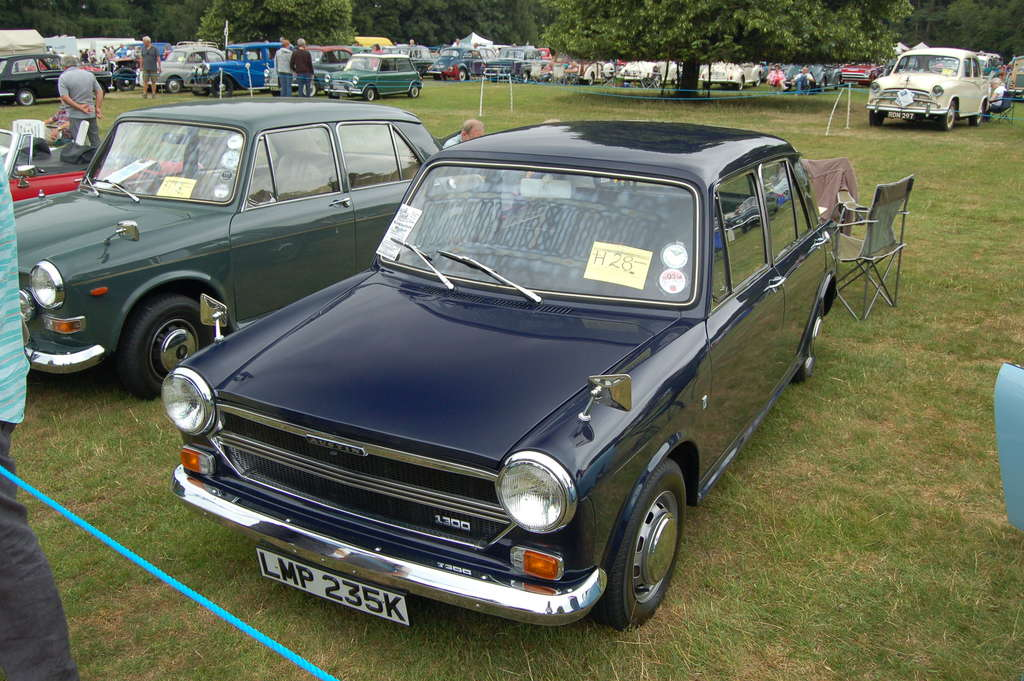Car: (157, 120, 840, 629), (11, 98, 487, 400), (0, 47, 1023, 130), (0, 128, 202, 206)
